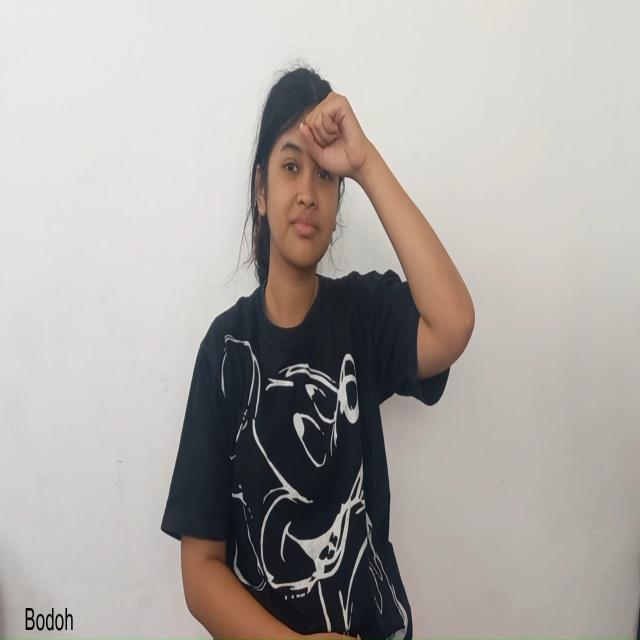Bodoh -BISINDO-: (248, 59, 478, 330)
